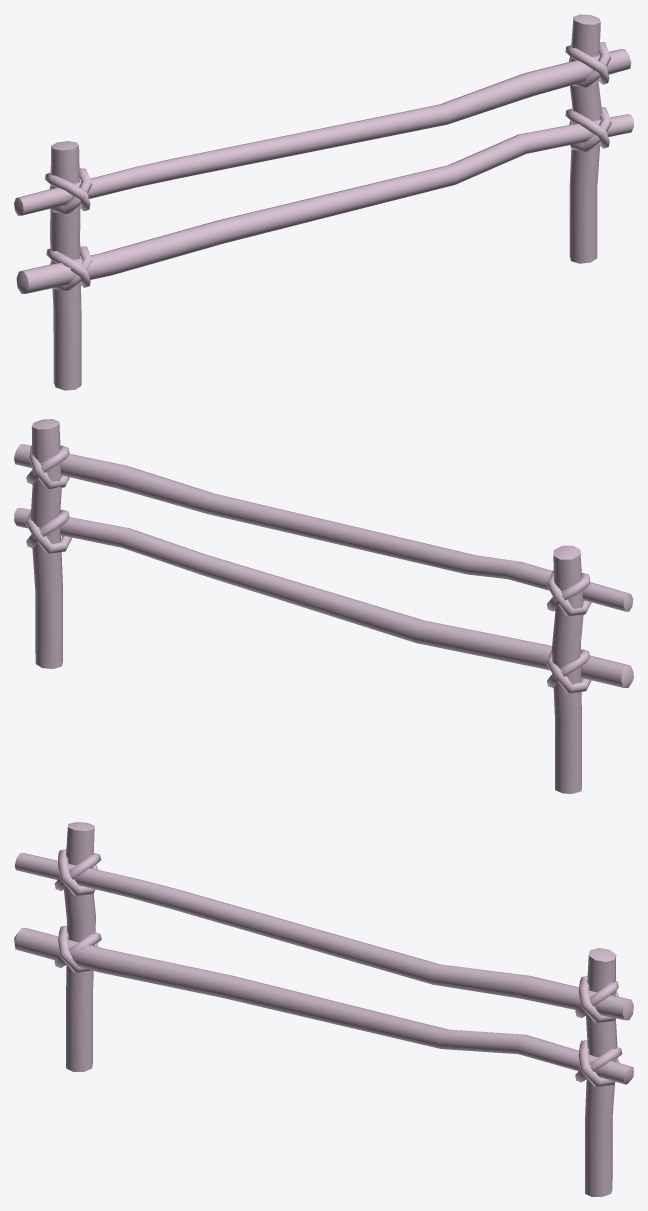
The model's file is fence_02.fbx.
3 views of the same model, one above another, from view 1: azimuth 30°, elevation 25°; view 2: azimuth 150°, elevation 25°; view 3: azimuth 330°, elevation 25° (orthographic).
Parts seen in each view (by area): view 1: Cylinder.011; view 2: Cylinder.011; view 3: Cylinder.011.
Part boxes in pixels (x1=…): Cylinder.011: x1=14, y1=14, x2=633, y2=390; Cylinder.011: x1=14, y1=419, x2=633, y2=793; Cylinder.011: x1=14, y1=822, x2=633, y2=1196.
Bounding box in the file's own units: 4.06 × 1.54 × 0.3465.
